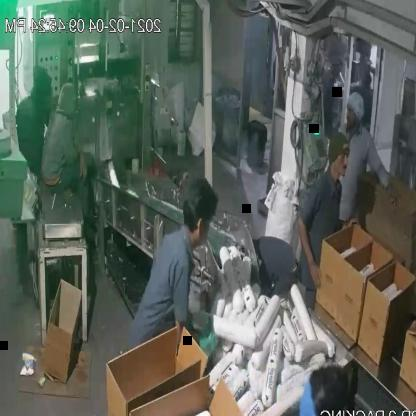glove: (176, 321, 224, 366)
no_glove: (294, 208, 330, 290), (376, 174, 405, 212), (403, 303, 416, 349)
